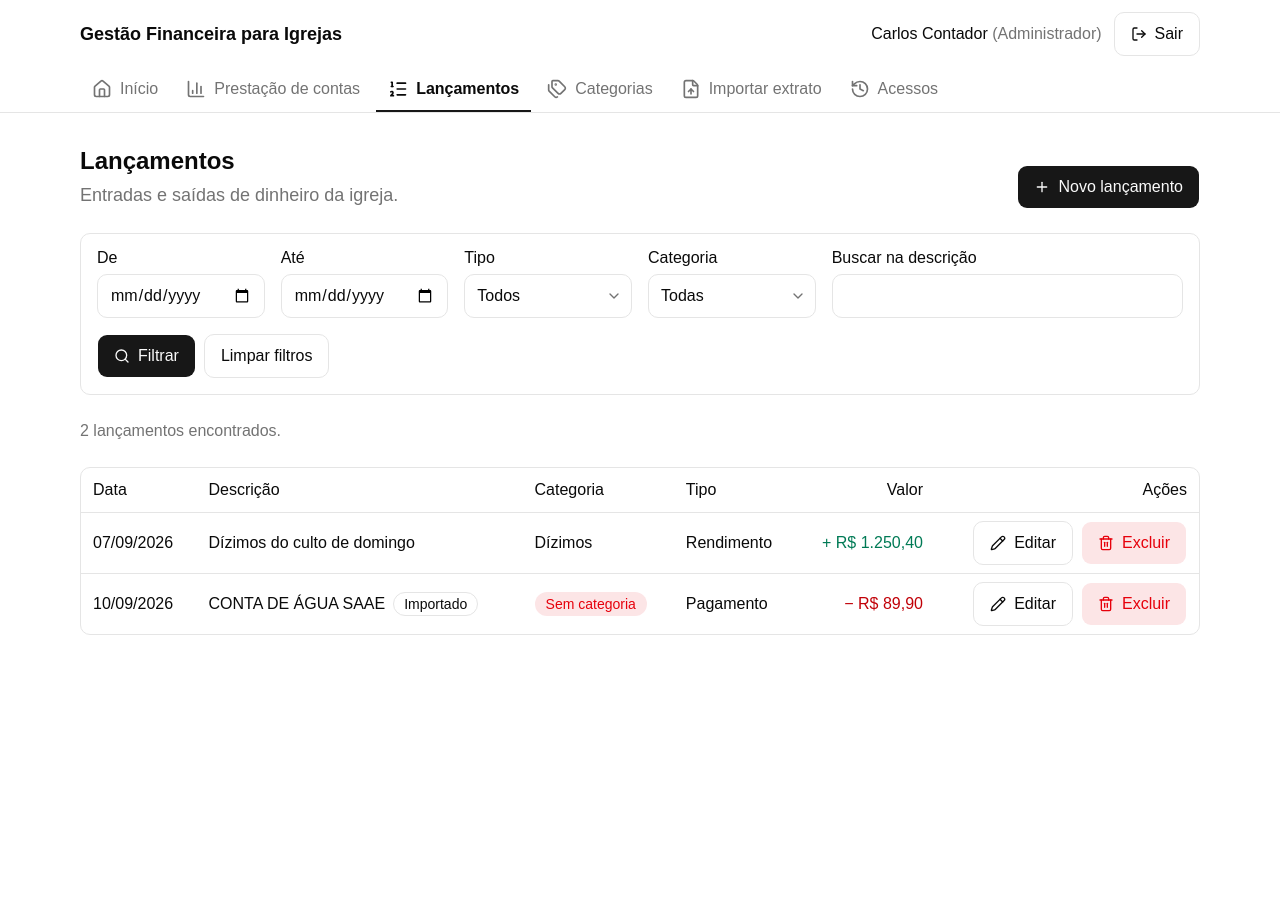
Test: Página de lançamentos › envia os filtros escolhidos para a API
expect the text "Dízimos do culto de domingo" is shown: met, box x1=196 y1=512 x2=522 y2=573
In the date field labelled "De": [181, 296] box x1=97 y1=274 x2=265 y2=318, type "2026-09-01"
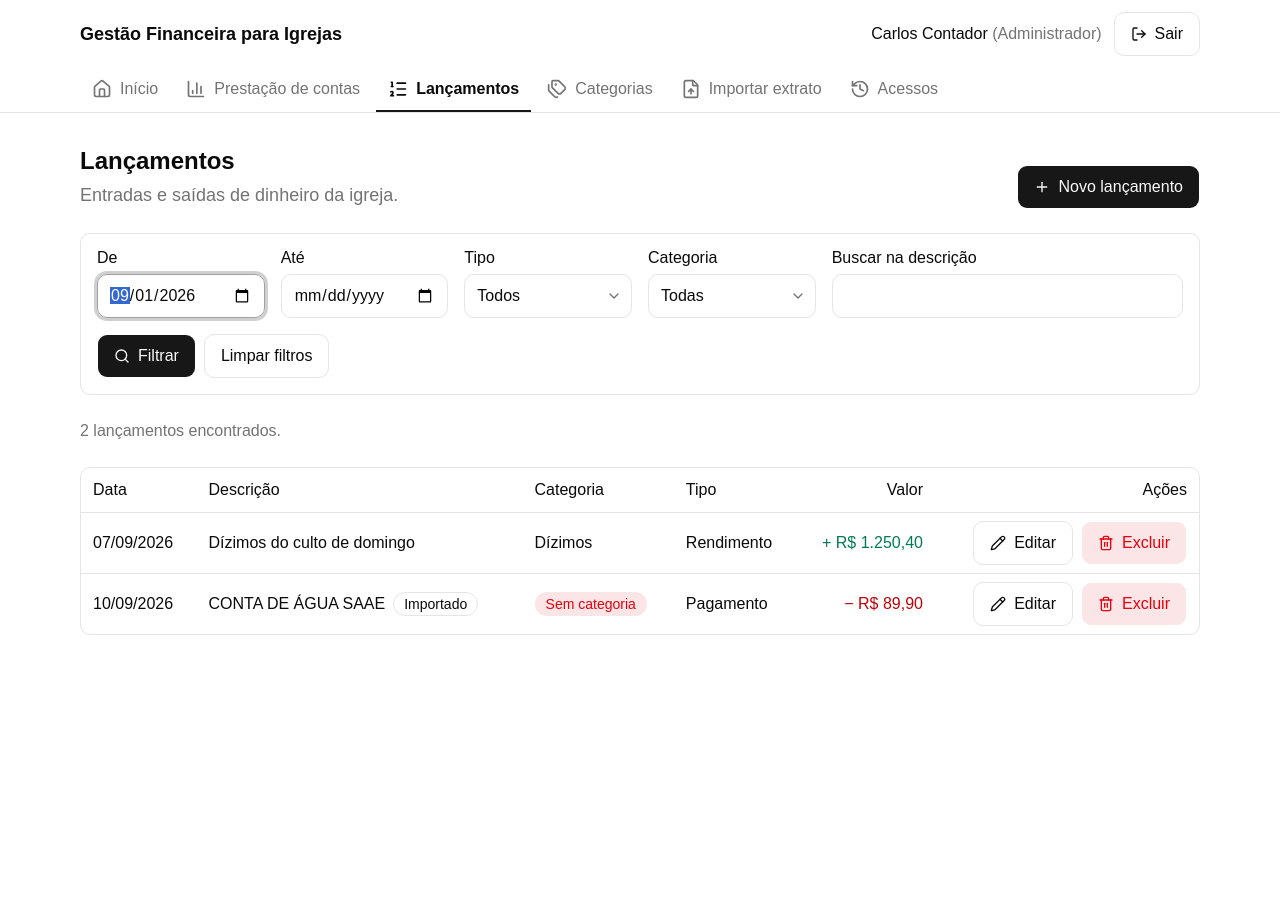
Select "Pagamentos" in the dropdown labelled "Tipo": [548, 296] box x1=464 y1=274 x2=632 y2=318
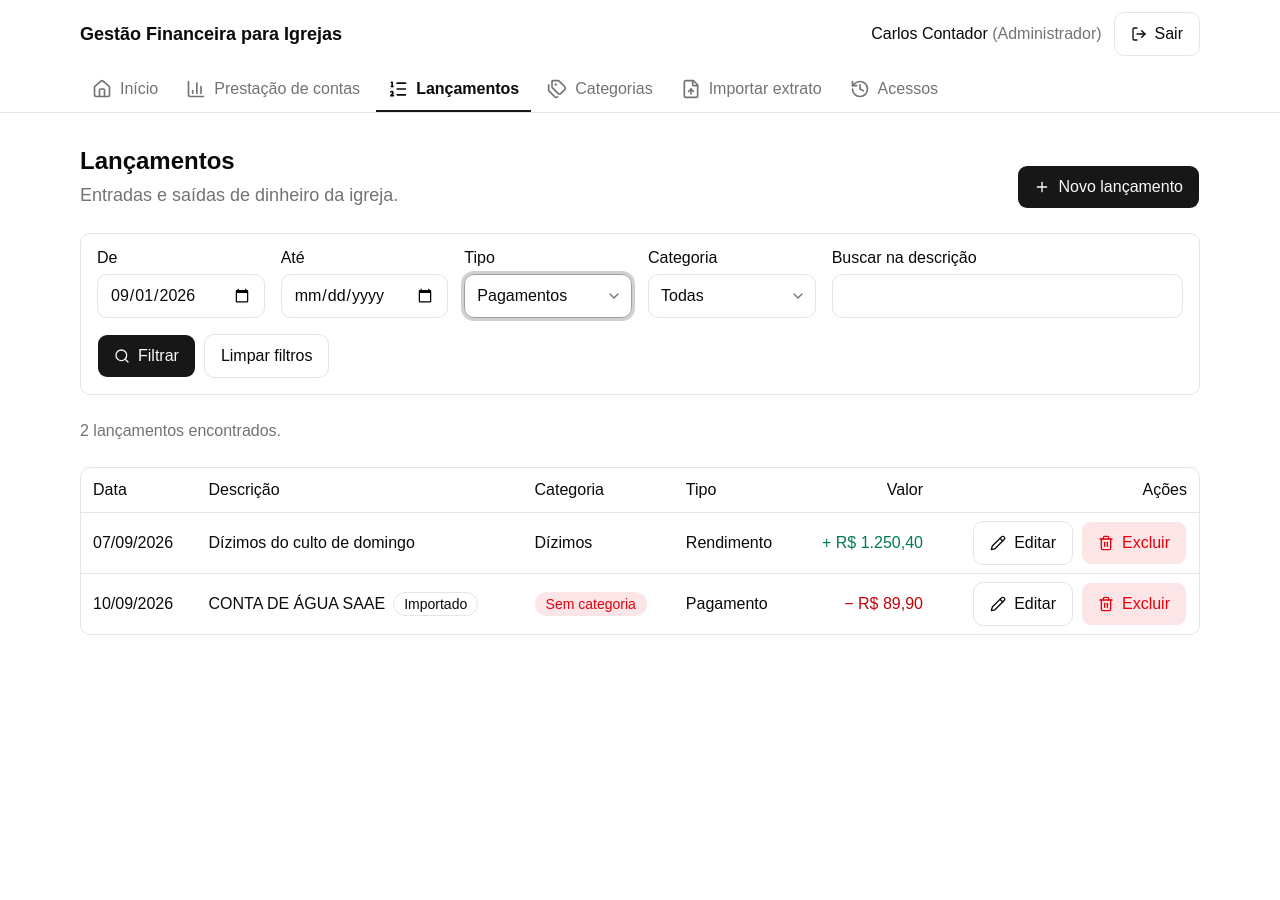
Select "Sem categoria" in the dropdown labelled "Categoria": [732, 296] box x1=648 y1=274 x2=816 y2=318
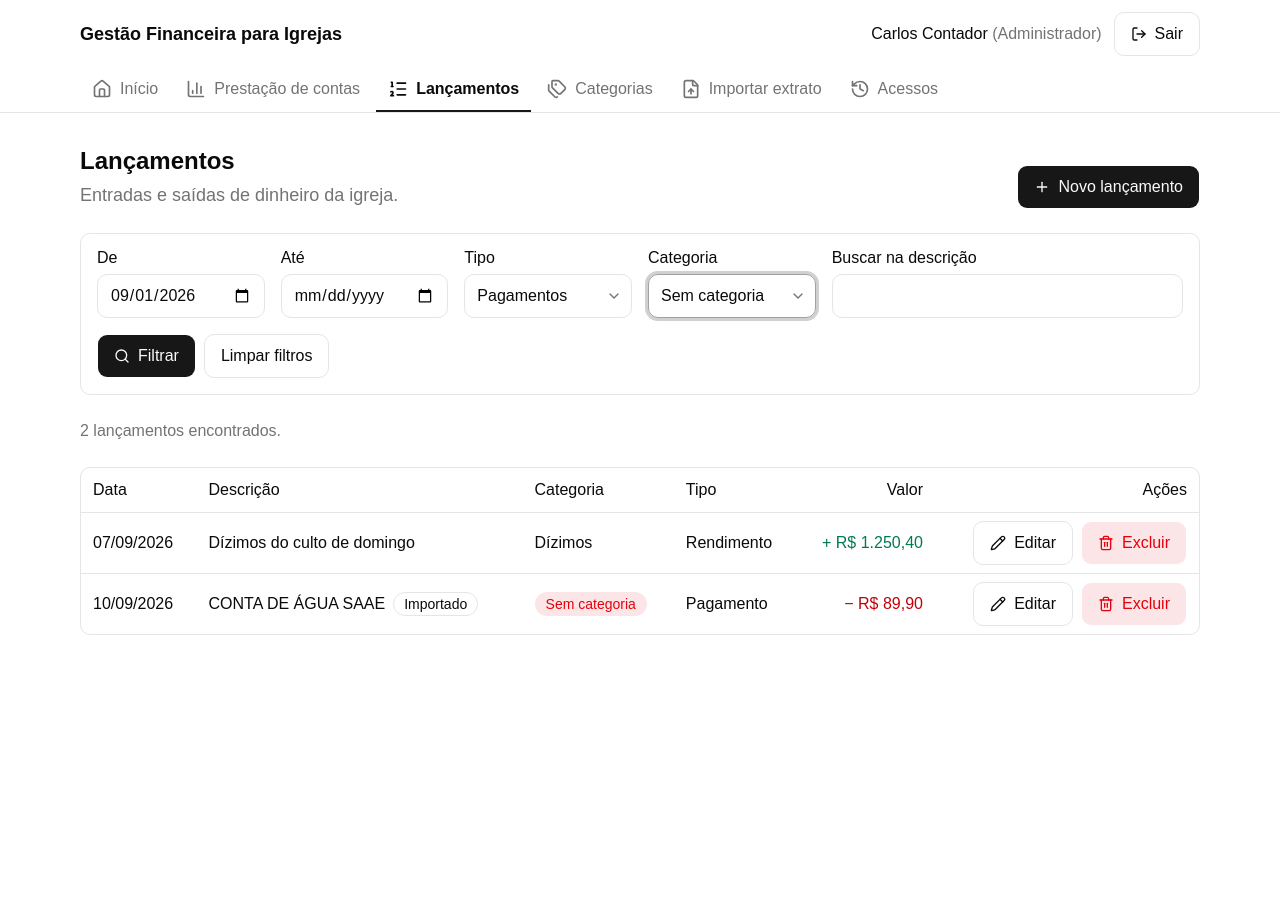
Click the button "Filtrar": [146, 356] box x1=97 y1=334 x2=196 y2=378
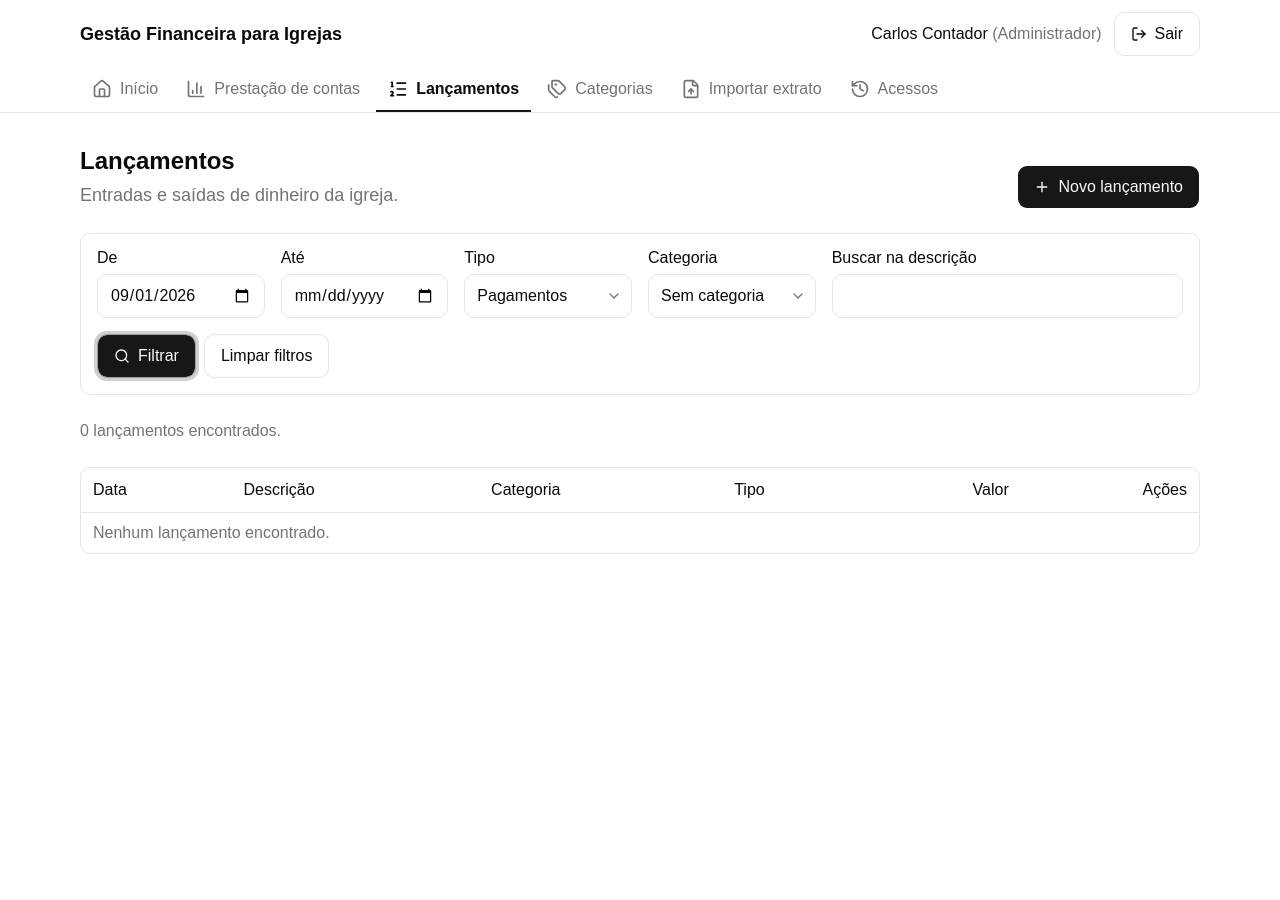
expect the text "Nenhum lançamento encontrado." is shown: met, box x1=81 y1=512 x2=1199 y2=552
